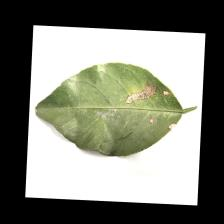canker: (106, 72, 183, 140)
